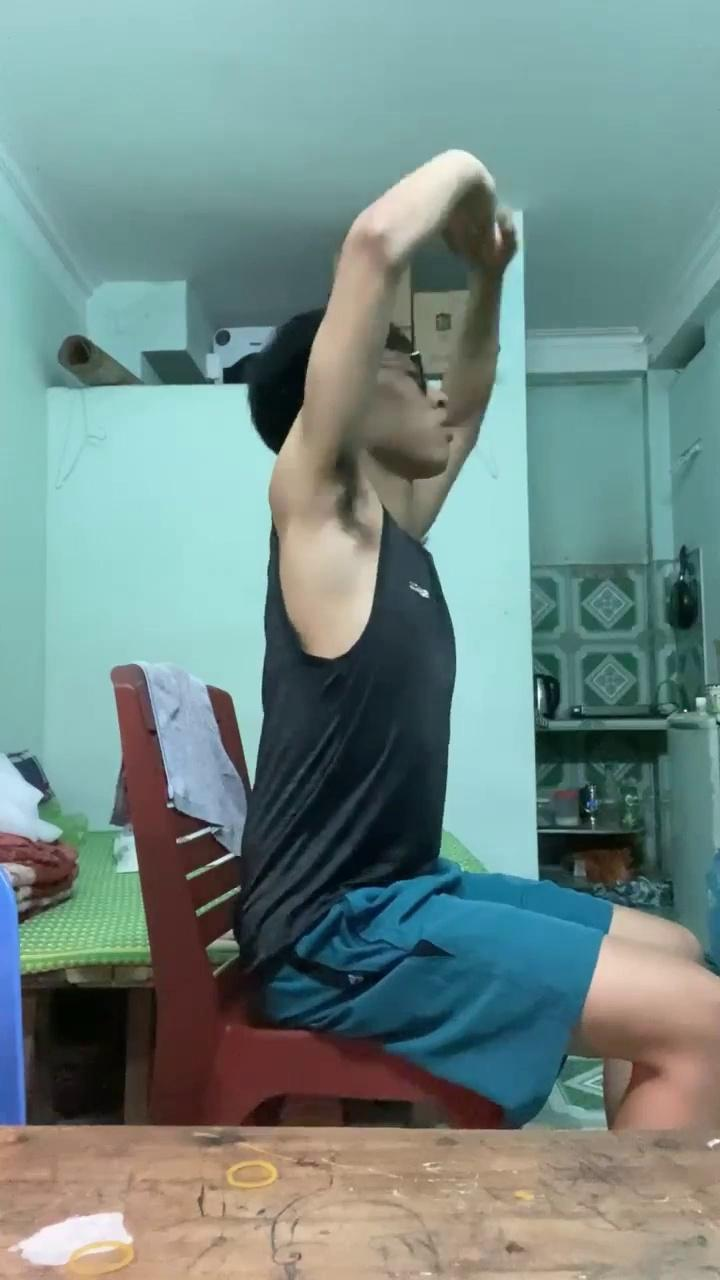GoodPosture: (236, 150, 719, 1129)
